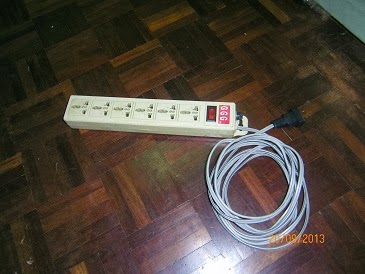Three_eye_plug: (59, 89, 250, 143)
